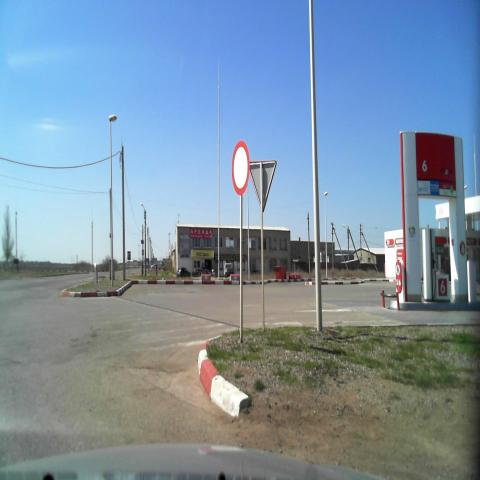3_2: (230, 141, 251, 199)
